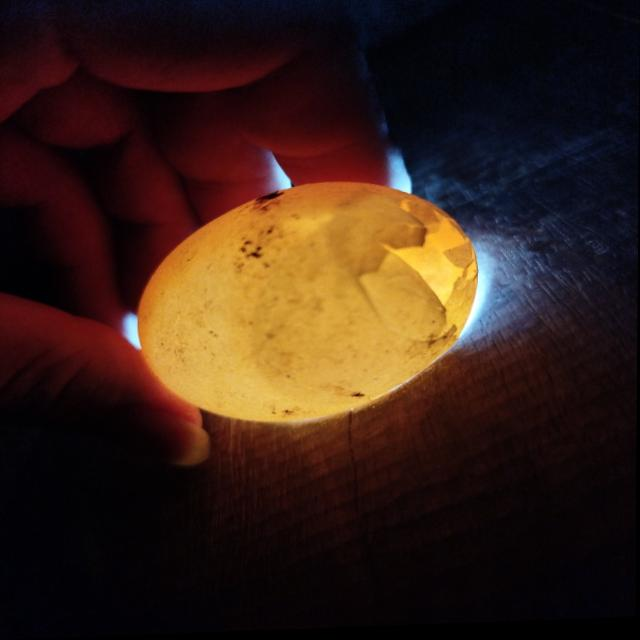Rachadura: (353, 198, 478, 341)
